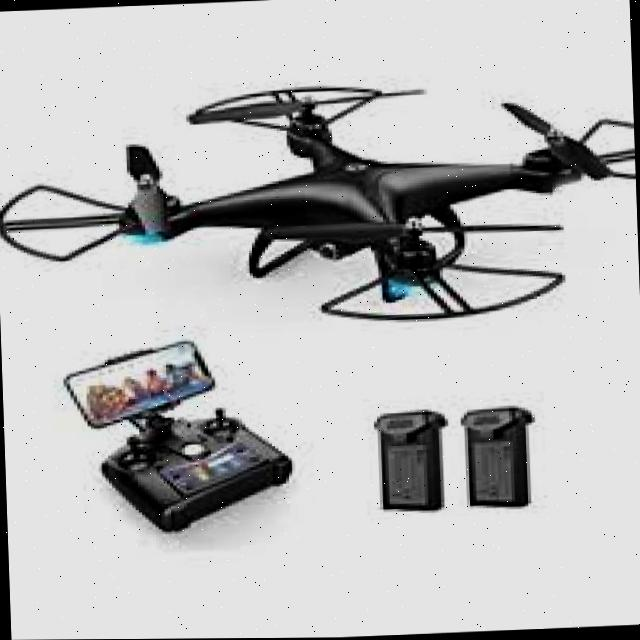drone: (0, 36, 640, 351)
